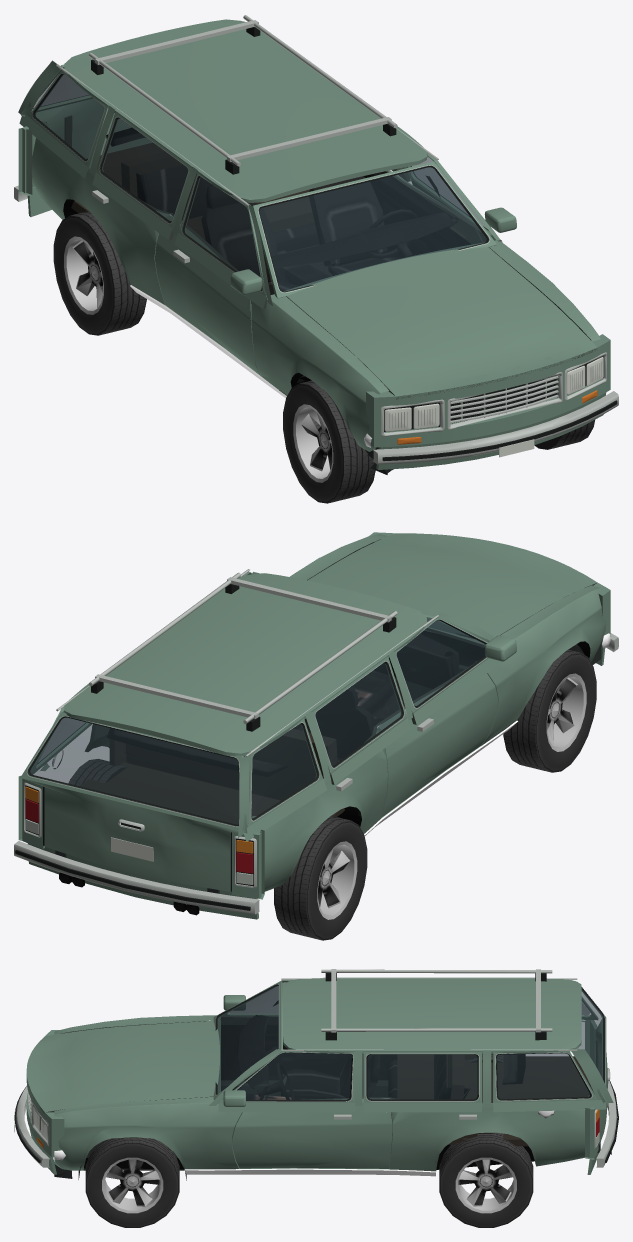
Rendered from wagon.glb.
3 views of the same model, one above another, from view 1: azimuth 30°, elevation 25°; view 2: azimuth 150°, elevation 25°; view 3: azimuth 270°, elevation 25° (orthographic). The views are drawn at different scales.
Parts seen in each view (by area): view 1: panel_BodyRoof, panel_hood_EstateStamping, glass_Windshield, panel_FrontValanceEstateHeader, panel_FrontFenderL_83, panel_BodyDoorL_78, Wheel_138, Wheel_132, glass_BodyDoorRearL, glass_BodyDoorL, detail_22_14, glass_CargoL (+45 smaller); view 2: panel_BodyRoof, panel_hood_EstateStamping, glass_TailgateRear, panel_TailgateEstateStamping, panel_BodyDoorL_78, panel_FrontFenderL_83, Wheel_138, Interior Estate rear seat back, Wheel_132, Interior Estate cargo floor, glass_BodyDoorRearL, glass_BodyDoorL (+33 smaller); view 3: panel_BodyRoof, panel_hood_EstateStamping, panel_BodyDoorR_69, panel_FrontFenderR_74, glass_BodyDoorRearR, Wheel_135, Wheel_129, glass_BodyDoorR, glass_Windshield, panel_RearQuarterR_73, Interior Estate cargo floor, glass_CargoR (+43 smaller).
Boxes of the visible parts, bbox=[...] form: panel_BodyRoof: bbox=[64, 19, 427, 202]; panel_hood_EstateStamping: bbox=[284, 243, 597, 396]; glass_Windshield: bbox=[259, 167, 486, 291]; panel_FrontValanceEstateHeader: bbox=[366, 334, 610, 447]; panel_FrontFenderL_83: bbox=[259, 300, 380, 451]; panel_BodyDoorL_78: bbox=[175, 248, 270, 383]; Wheel_138: bbox=[53, 211, 146, 335]; Wheel_132: bbox=[283, 380, 375, 503]; glass_BodyDoorRearL: bbox=[102, 118, 188, 220]; glass_BodyDoorL: bbox=[184, 177, 262, 288]; detail_22_14: bbox=[201, 185, 298, 294]; glass_CargoL: bbox=[35, 74, 104, 159]; panel_BodyRoof: bbox=[64, 573, 426, 756]; panel_hood_EstateStamping: bbox=[307, 533, 597, 644]; glass_TailgateRear: bbox=[30, 717, 239, 824]; panel_TailgateEstateStamping: bbox=[21, 778, 245, 891]; panel_BodyDoorL_78: bbox=[401, 663, 505, 803]; panel_FrontFenderL_83: bbox=[494, 588, 606, 736]; Wheel_138: bbox=[274, 816, 367, 940]; Interior Estate rear seat back: bbox=[125, 728, 337, 799]; Wheel_132: bbox=[503, 649, 596, 772]; Interior Estate cargo floor: bbox=[80, 762, 336, 824]; glass_BodyDoorRearL: bbox=[315, 663, 401, 765]; glass_BodyDoorL: bbox=[396, 620, 485, 705]; panel_BodyRoof: bbox=[283, 977, 581, 1053]; panel_hood_EstateStamping: bbox=[26, 1020, 220, 1112]; panel_BodyDoorR_69: bbox=[221, 1106, 358, 1169]; panel_FrontFenderR_74: bbox=[54, 1102, 220, 1170]; glass_BodyDoorRearR: bbox=[367, 1054, 477, 1099]; Wheel_135: bbox=[439, 1132, 533, 1227]; Wheel_129: bbox=[85, 1137, 179, 1227]; glass_BodyDoorR: bbox=[238, 1052, 351, 1099]; glass_Windshield: bbox=[217, 985, 278, 1093]; panel_RearQuarterR_73: bbox=[487, 1103, 584, 1166]; Interior Estate cargo floor: bbox=[463, 1056, 588, 1146]; glass_CargoR: bbox=[497, 1053, 589, 1098].
Size of what is drawn, in the model's own units: 1.95 by 1.59 by 4.82.
25 materials, 4 textured.
